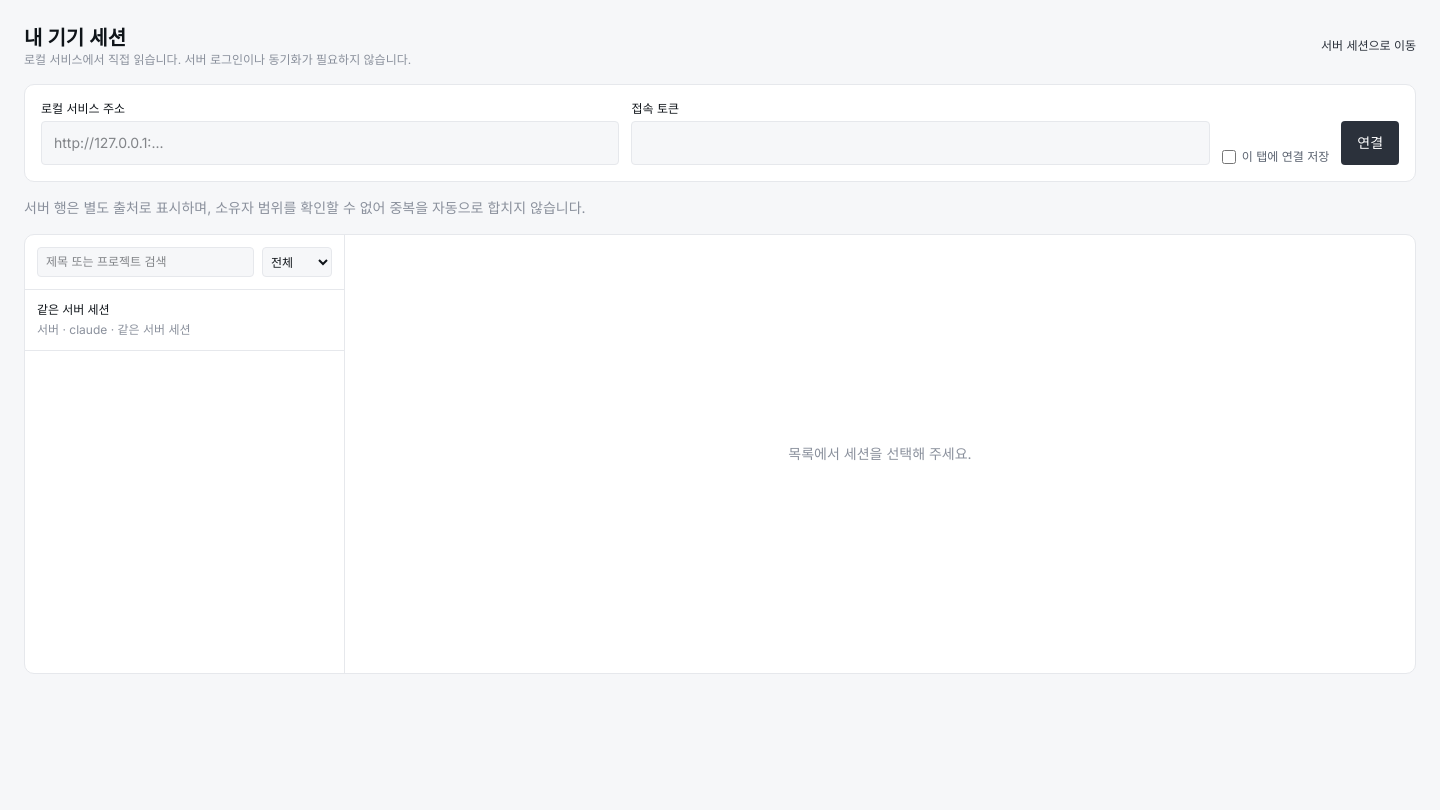
Test case: LocalSessionsPanel › shows server rows without an owner scope and never deduplicates matching local IDs
The image size is (1440, 810).
Expected: the text "같은 서버 세션" is shown, [37,302,110,318]
Expected: the message shows "서버 행은 별도 출처로 표시하며", [24,199,586,216]
Type "http://127.0.0.1:4567" into the field labelled "로컬 서비스 주소". click: (330, 143)
box: [41,121,619,165]
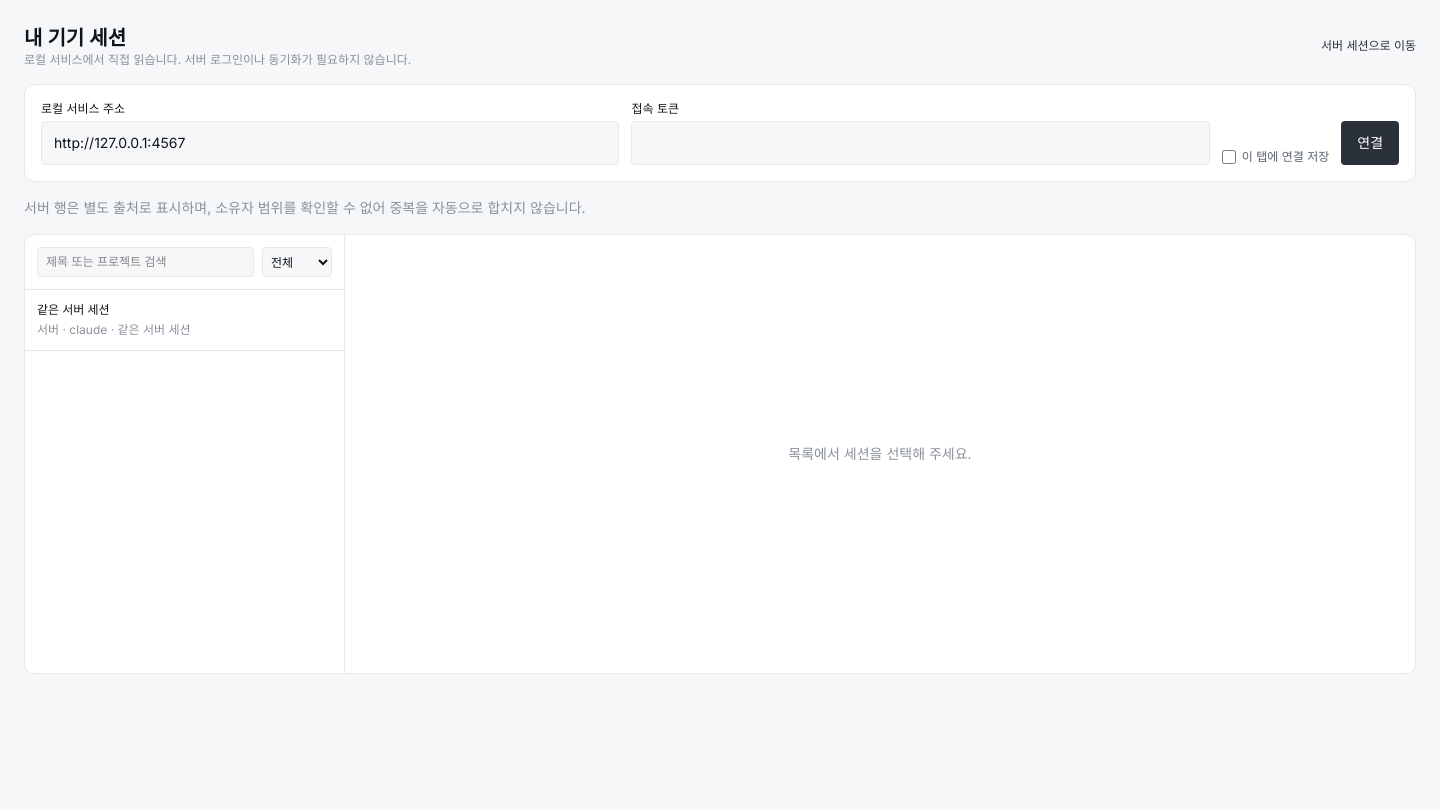
Type "temporary-value" into the password field labelled "접속 토큰". click: (921, 143)
box: [631,121,1210,165]
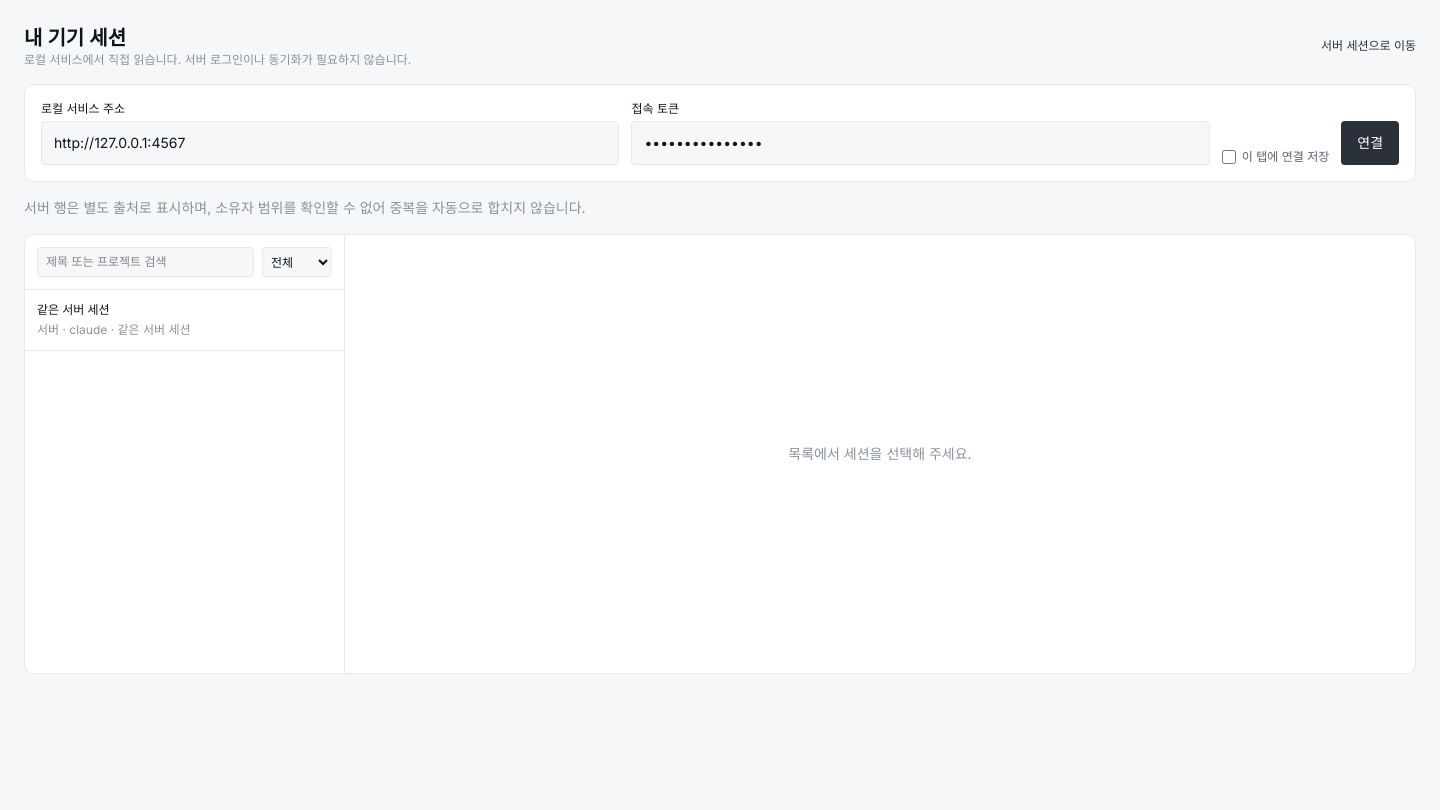
Click the button "연결". click: (1370, 143)
box: [1341,121,1399,165]
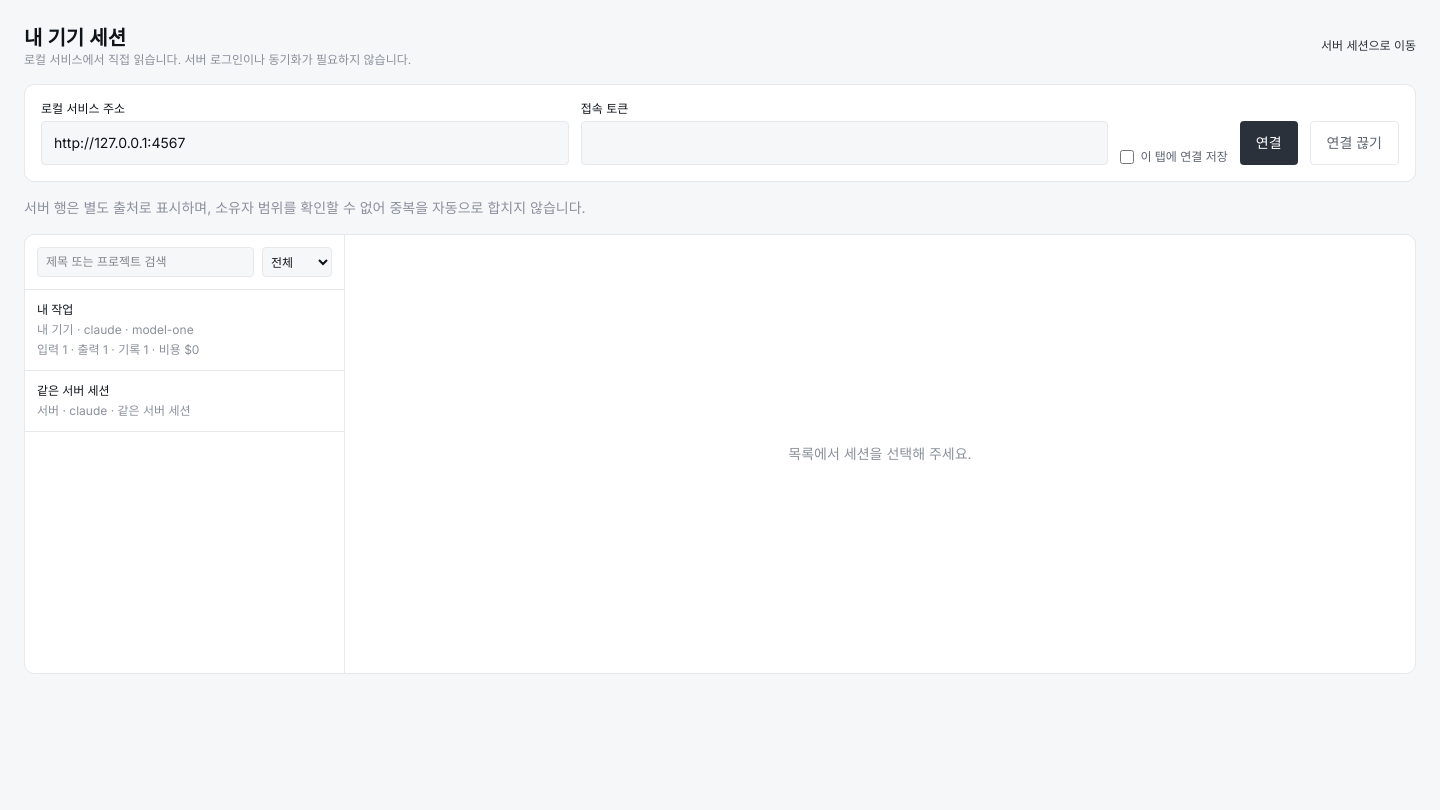
Expected: the button "같은 서버 세션 서버 · claude · 같은 서버 세션" is shown, [25,371,344,431]
Expected: the text "내 작업" is shown, [37,302,73,318]
Expected: the button "내 작업 내 기기 · claude · model-one 입력 1 · 출력 1 · 기록 1 · 비용 $0" is shown, [25,290,344,370]
